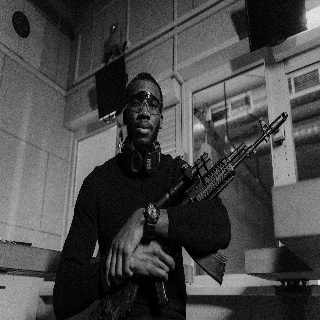rifle: (109, 111, 288, 320)
